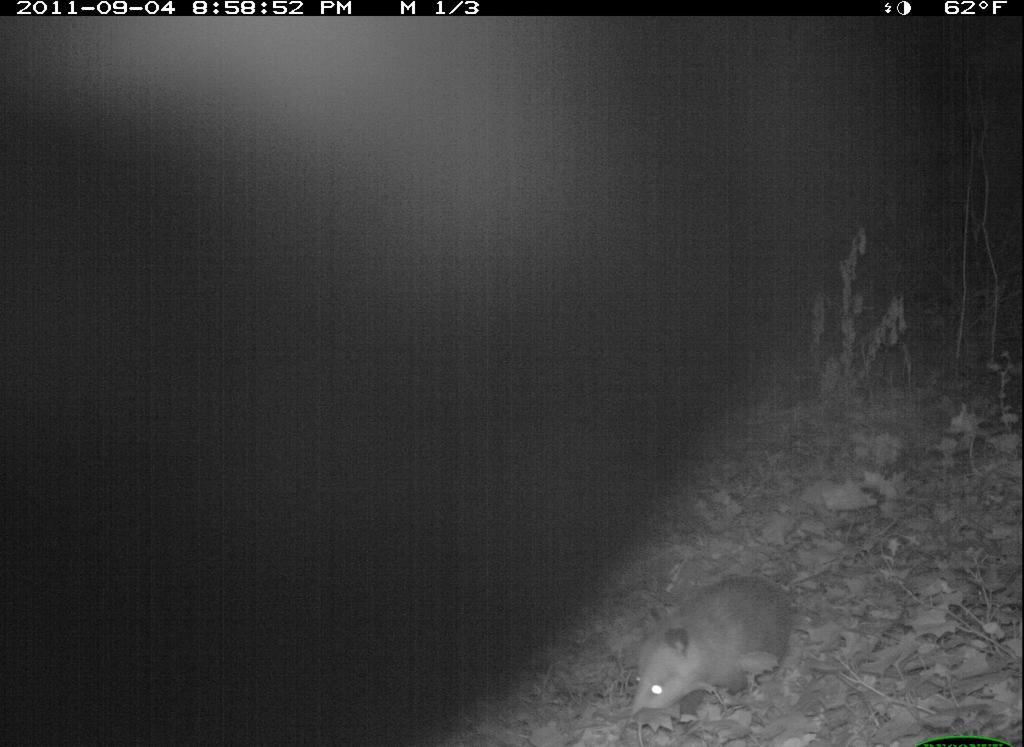opossum: (617, 560, 826, 743)
